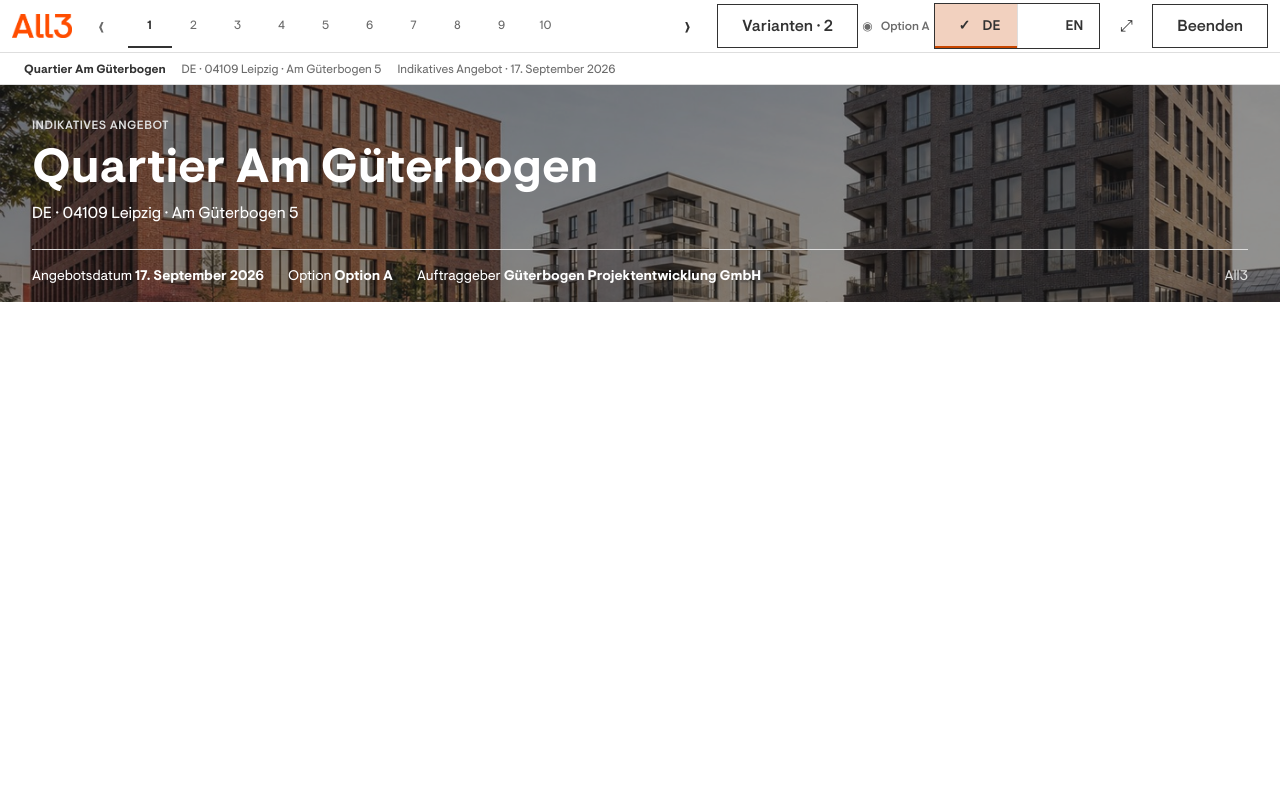
VR3-05 · the client stage states one number per Option › the hero and the bar agree on the presented Option, and the hero states its SAVED total
Click the button "2". click: click(194, 26)
box: x1=172 y1=4 x2=216 y2=48
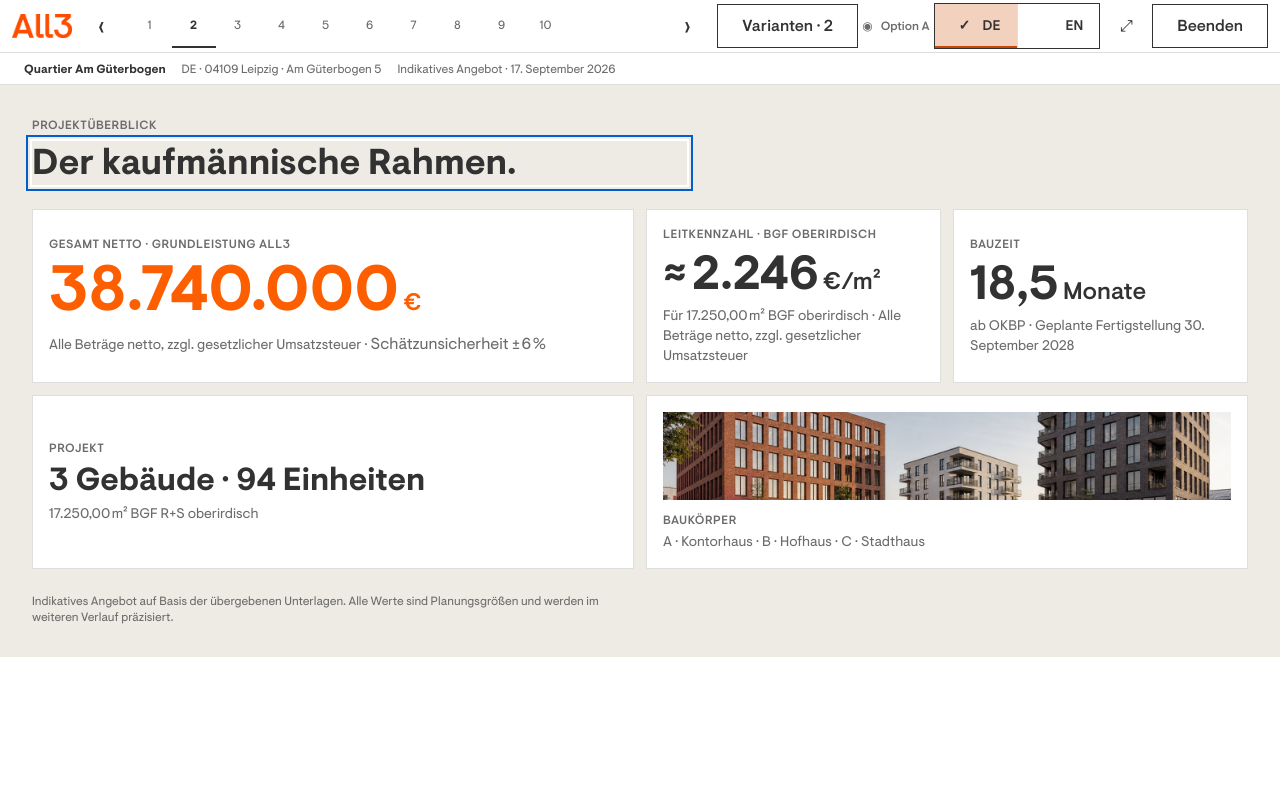
Expected: the message shows "Option A", x1=881 y1=18 x2=930 y2=34
Now the element "Projektüberblick" is shown
Click the button "Varianten · 2". click: click(788, 26)
box: x1=717 y1=4 x2=858 y2=48
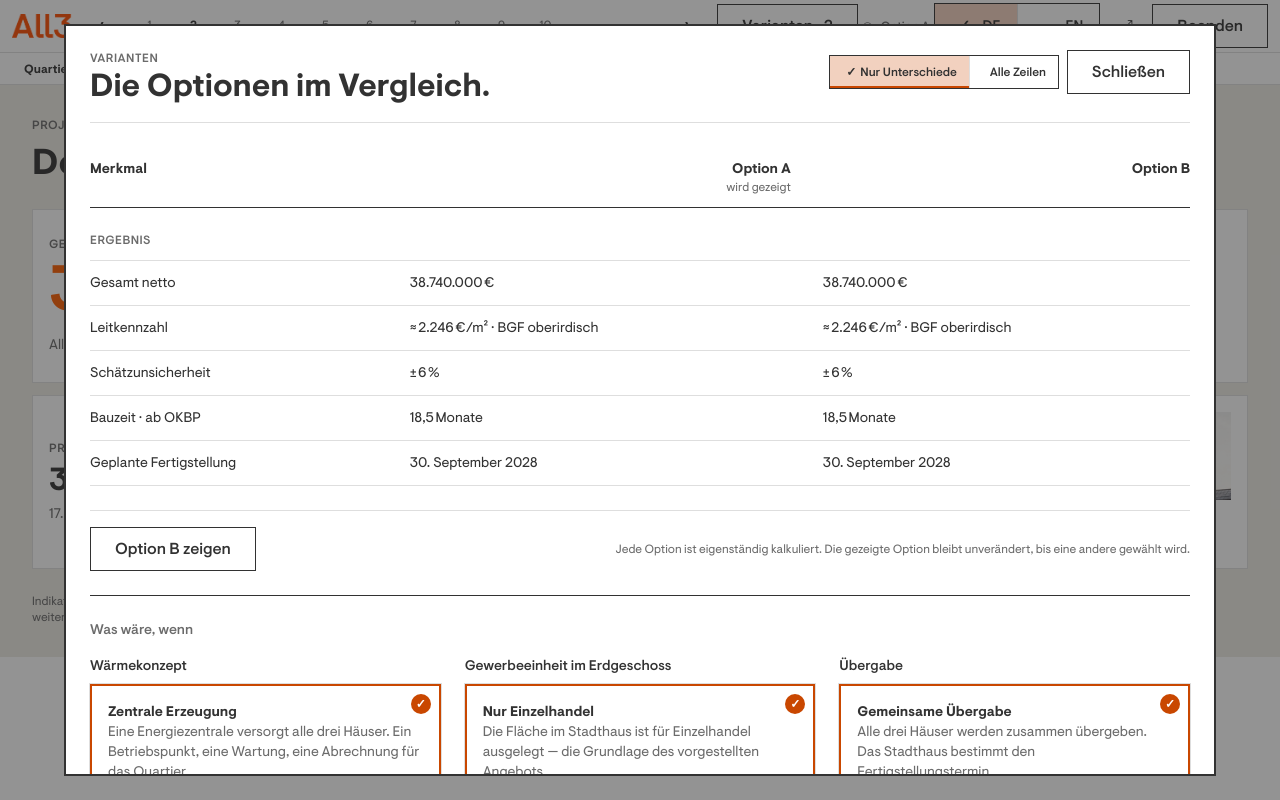
Click the button "Option B zeigen". click: click(173, 549)
box: x1=90 y1=527 x2=256 y2=571
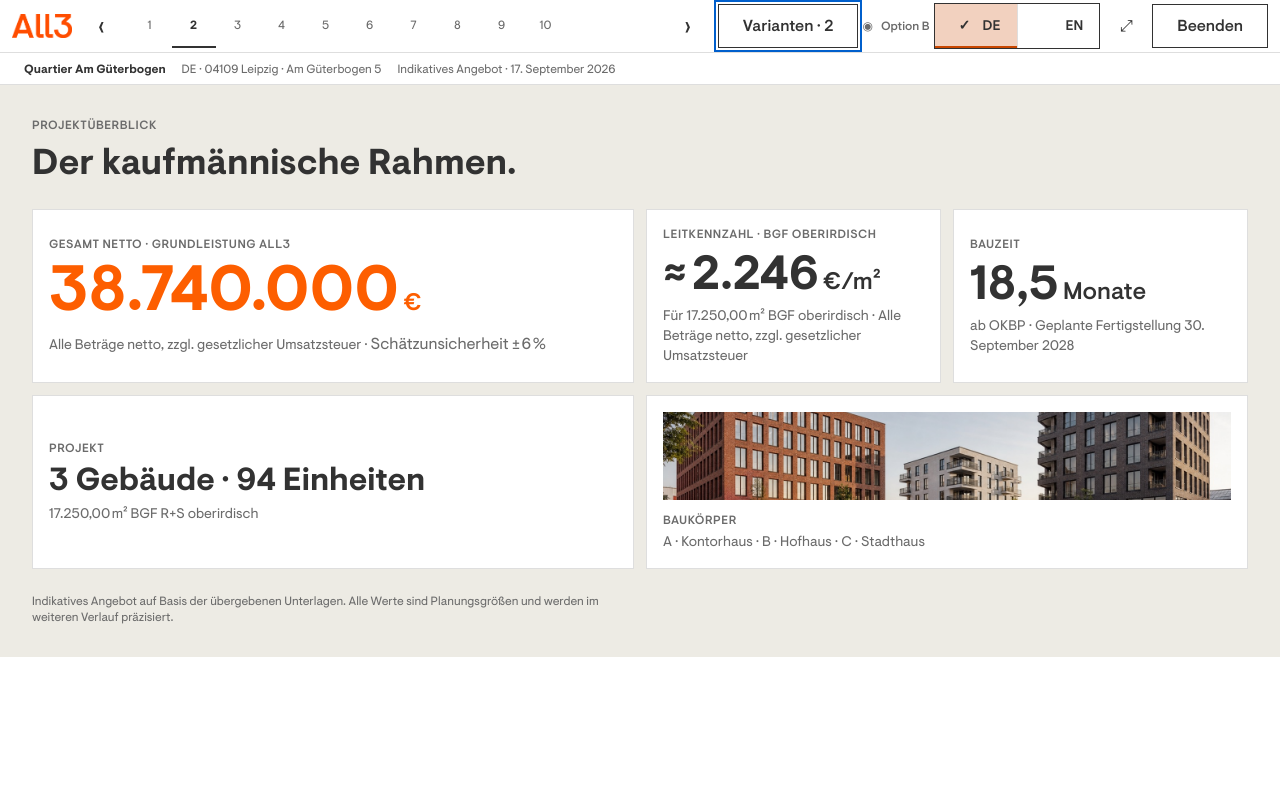
Now the element "Projektüberblick" is shown
Now the dialog is gone
Now the message shows "Option B", box x1=881 y1=18 x2=930 y2=34
